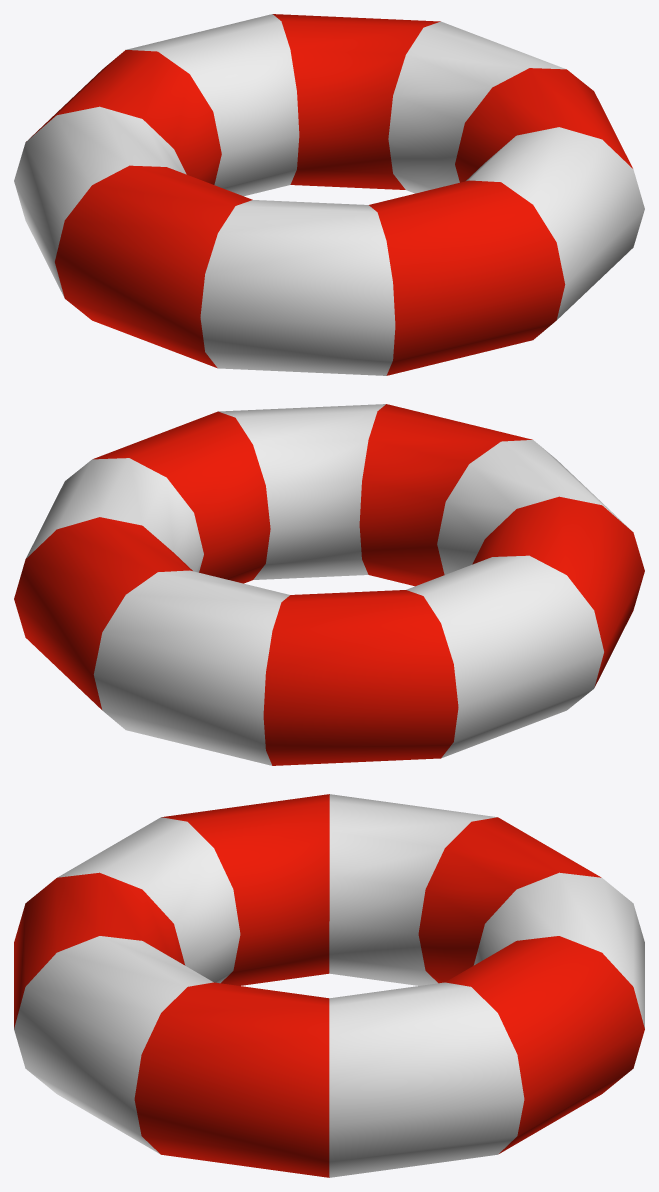
The model's file is Bouée.fbx.
3 renders of one model, top to bottom at view 1: azimuth 30°, elevation 25°; view 2: azimuth 150°, elevation 25°; view 3: azimuth 270°, elevation 25°, orthographic. The views are drawn at different scales.
Visible parts, largest first — view 1: Torus.001; view 2: Torus.001; view 3: Torus.001.
Part boxes in pixels (left/top/right/bottom): Torus.001: left=14, top=14, right=644, bottom=375; Torus.001: left=14, top=404, right=644, bottom=765; Torus.001: left=14, top=794, right=644, bottom=1177.
Bounding box in the file's own units: 184 × 50 × 175.
